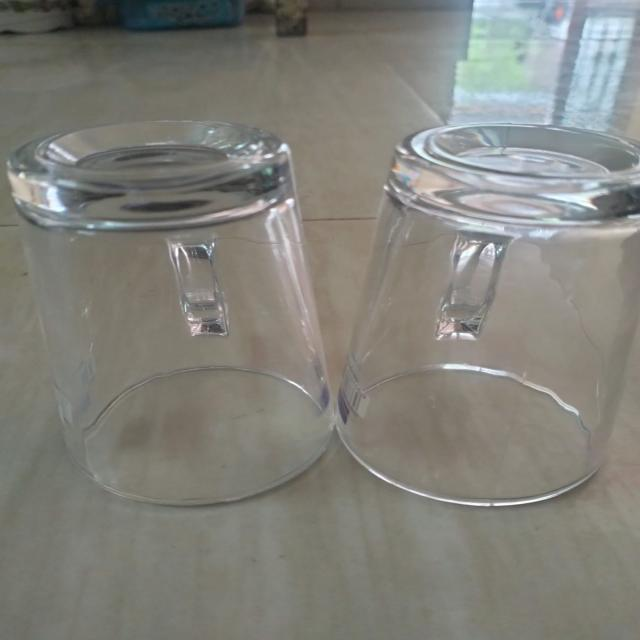glass-VX4N: (0, 120, 334, 510), (335, 123, 640, 508)
